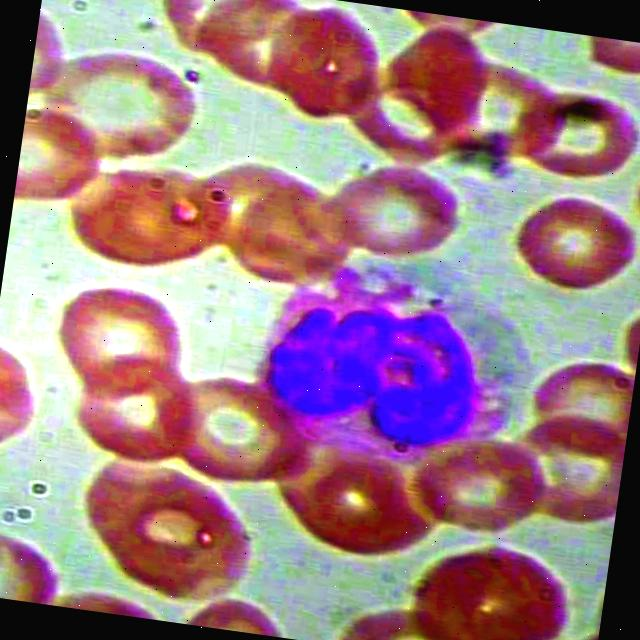RBC: (147, 362, 330, 506), (35, 34, 218, 178), (60, 156, 229, 287), (37, 274, 196, 410), (394, 529, 583, 640), (61, 341, 202, 478), (331, 150, 476, 275), (406, 424, 556, 540), (503, 182, 640, 307), (267, 0, 393, 129), (510, 74, 640, 199), (523, 352, 637, 457), (13, 102, 111, 218)
WBC: (228, 240, 542, 488)
